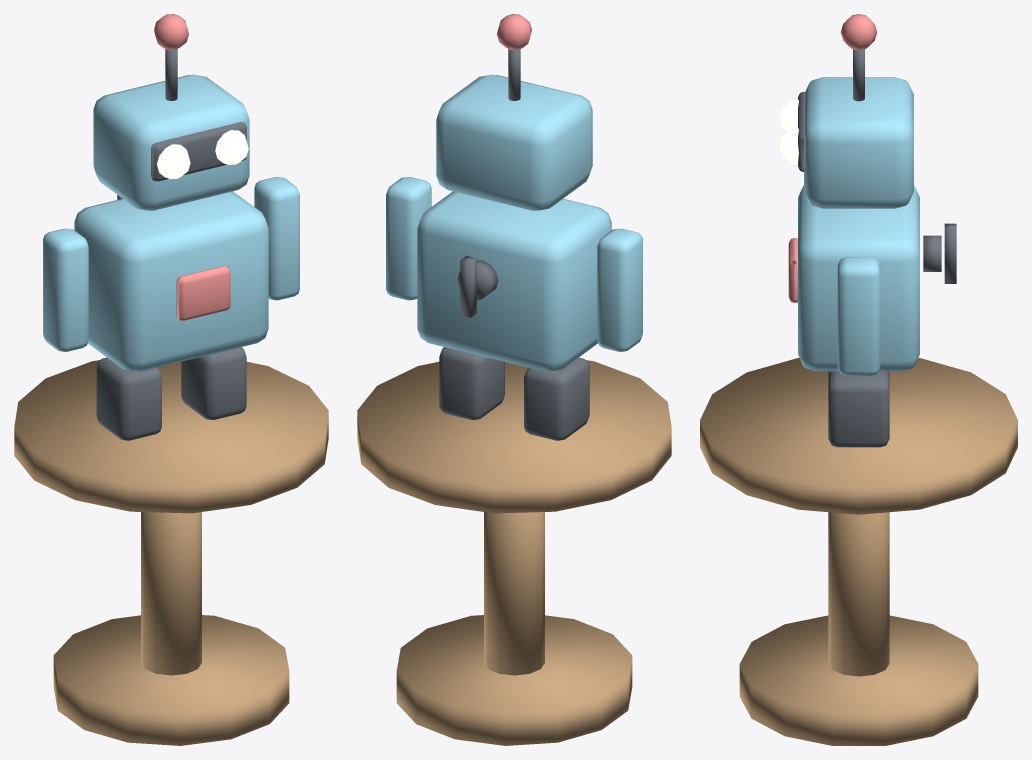
The model's file is home_sv_toyrobot_v01.glb.
The picture shows the model from 3 angles, left to right: view 1: azimuth 30°, elevation 25°; view 2: azimuth 150°, elevation 25°; view 3: azimuth 270°, elevation 25°; orthographic projection.
Visible parts, largest first — view 1: home_sv_toyrobot_v01; view 2: home_sv_toyrobot_v01; view 3: home_sv_toyrobot_v01.
Boxes of the visible parts, x1,y1,x2,y2 form: home_sv_toyrobot_v01: (14, 14, 328, 745); home_sv_toyrobot_v01: (357, 14, 671, 745); home_sv_toyrobot_v01: (700, 14, 1017, 745).
Bounding box in the file's own units: 0.52 × 1.23 × 0.52.
